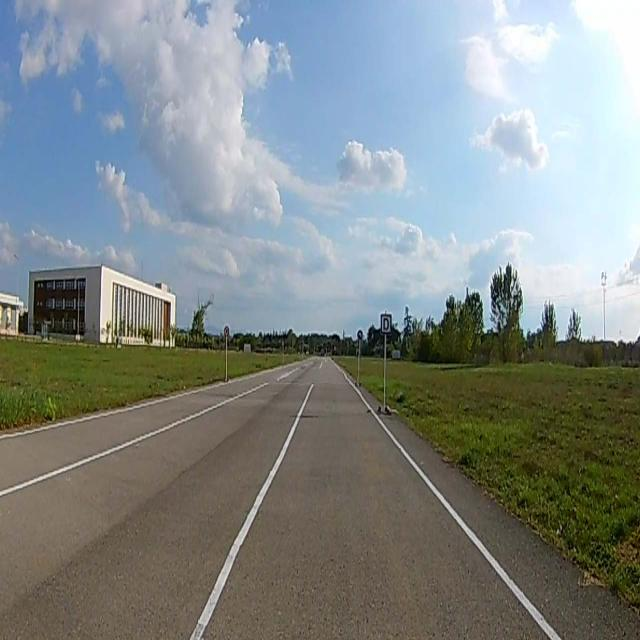durak: (382, 314, 392, 334)
